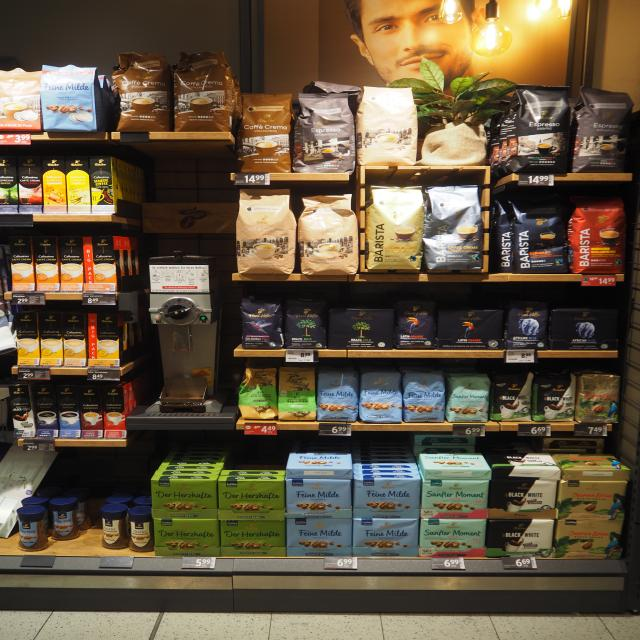AB Bohne: (506, 300, 550, 349)
AB Gemahlen: (550, 303, 618, 350)
Athiopien Bohne: (238, 366, 278, 421)
Athiopien Gemahlen: (278, 366, 321, 423)
BM Bohne: (285, 296, 327, 350)
BM Gemahlen: (328, 307, 393, 351)
BW Bohne: (531, 370, 577, 422), (490, 368, 532, 422)
BW Gemahlen: (487, 479, 559, 519), (485, 518, 553, 558), (482, 452, 563, 472)
Barista CB: (365, 183, 422, 270)
Barista CC: (424, 183, 484, 272)
Barista Espresso: (509, 197, 570, 275)
Barista Kolumbien: (568, 197, 626, 274)
C Fino Bohne: (238, 296, 286, 348)
CC Mild: (235, 188, 298, 276), (297, 193, 360, 276), (357, 85, 419, 168)
CC Vollmundig: (0, 66, 43, 133)
CC Vollmundig 36 Pads: (171, 50, 236, 135), (110, 50, 171, 132), (238, 92, 294, 174)
Colombia BB Bohne: (577, 372, 621, 424)
Colombia BB Gemahlen: (553, 518, 622, 561), (558, 480, 626, 521), (550, 452, 632, 471)
Empty Shelf: (353, 452, 423, 473), (160, 450, 230, 469), (221, 450, 290, 469)
Espresso Aromatisch: (570, 86, 632, 176), (292, 92, 358, 176)
Espresso Kraftig: (507, 85, 572, 174)
FM 36 Pads: (38, 64, 106, 133)
FM Bohne: (400, 370, 446, 423), (358, 369, 402, 424), (316, 370, 360, 422)
FM Gemahlen: (352, 475, 422, 517), (285, 516, 353, 559), (283, 478, 353, 518), (351, 517, 419, 558), (286, 451, 354, 479)
FM Instant: (11, 504, 51, 552), (44, 496, 84, 542)
Herzhatfe Mundig: (218, 472, 288, 520), (150, 474, 220, 517), (154, 518, 221, 558), (218, 519, 288, 557)
LG Bohne: (394, 299, 438, 350)
LG Gemahlen: (437, 307, 503, 349)
SM Bohne: (445, 372, 491, 425)
SM Gemahlen: (418, 518, 486, 559), (420, 480, 489, 517), (418, 452, 491, 470)
Simo CC Colombia: (18, 154, 44, 212)
Simo CCMild: (88, 311, 121, 367)
Simo CCMild bigpack: (14, 311, 41, 366), (38, 311, 64, 366)
Simo CCVollmundig: (84, 235, 119, 292)
Simo CCVollmundig bigpack: (8, 235, 36, 291), (33, 235, 60, 291), (58, 235, 85, 291)
Simo Decaff: (63, 312, 88, 366)
Simo Es Brazil: (0, 154, 19, 212)
Simo Es Caramel: (41, 156, 67, 213)
Simo Es Elegant: (102, 385, 128, 438)
Simo Es Kraft: (79, 385, 104, 439)
Simo Es Vanilla: (65, 155, 92, 213)
Simo Kaffee BW: (7, 383, 36, 437)
Simo Kaffee Kraft: (31, 383, 59, 438)
Simo Kaffee Mild: (56, 384, 82, 438)
Simo Sunrise: (89, 155, 119, 214)
